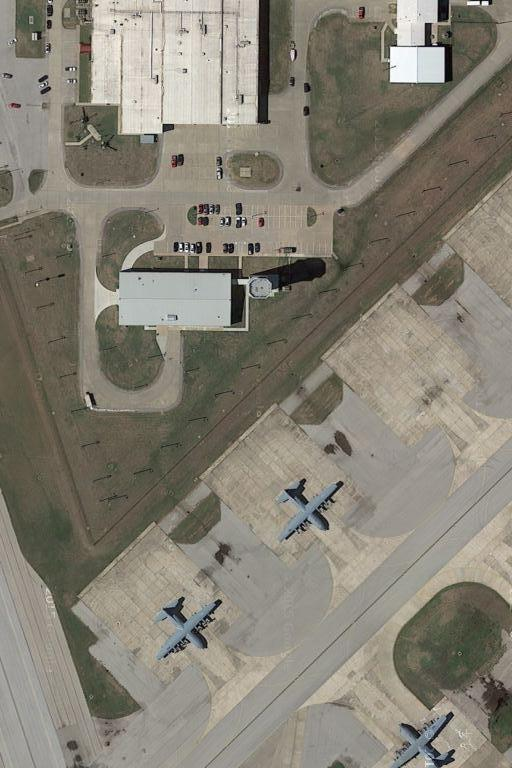C-130: (274, 472, 348, 542), (151, 593, 225, 663), (384, 710, 466, 768)
